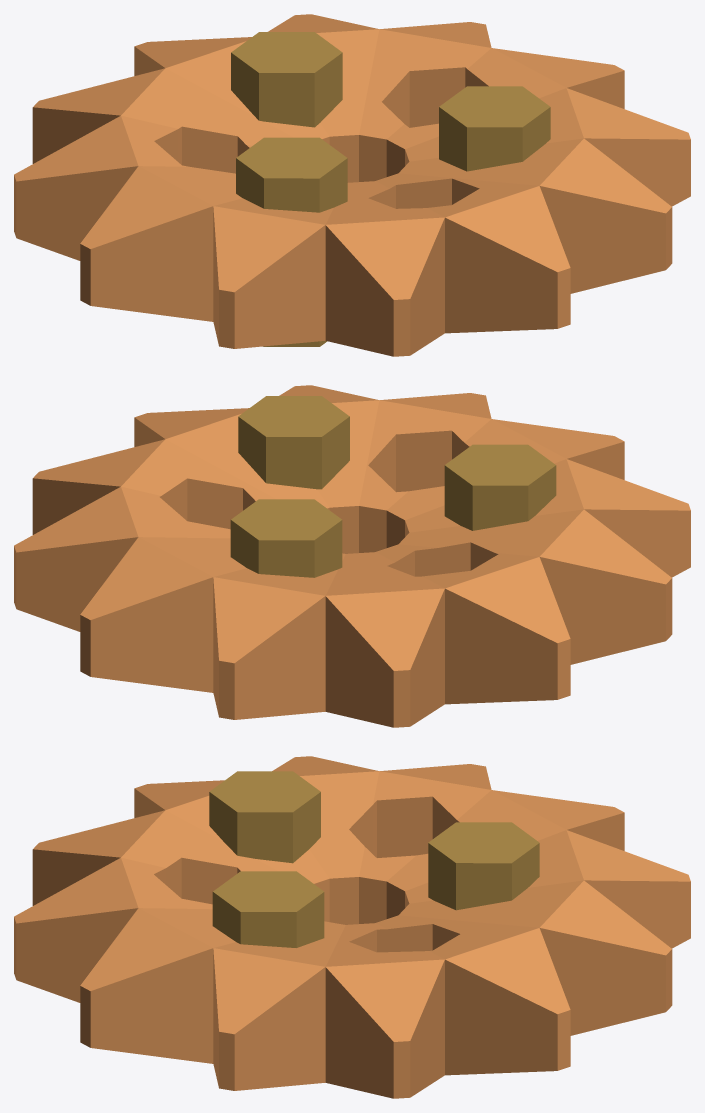
File: ScrapCollectibleHuge.dae
3 views of the same model, one above another, from view 1: azimuth 30°, elevation 25°; view 2: azimuth 150°, elevation 25°; view 3: azimuth 270°, elevation 25° (orthographic).
Visible parts, largest first — view 1: BigGear, GearBolt1, GearBolt2, GearBolt3; view 2: BigGear, GearBolt2, GearBolt3, GearBolt1; view 3: BigGear, GearBolt3, GearBolt1, GearBolt2.
Boxes of the visible parts, x1=… form: BigGear: x1=14, y1=14, x2=690, y2=356; GearBolt1: x1=231, y1=32, x2=342, y2=127; GearBolt2: x1=439, y1=86, x2=550, y2=171; GearBolt3: x1=236, y1=137, x2=347, y2=346; BigGear: x1=14, y1=385, x2=690, y2=727; GearBolt2: x1=238, y1=396, x2=349, y2=489; GearBolt3: x1=444, y1=444, x2=556, y2=530; GearBolt1: x1=230, y1=499, x2=342, y2=577; BigGear: x1=14, y1=756, x2=690, y2=1098; GearBolt3: x1=209, y1=771, x2=320, y2=863; GearBolt1: x1=428, y1=822, x2=539, y2=910; GearBolt2: x1=212, y1=871, x2=324, y2=947.
Size of the model in its own units: 0.7273 by 0.7279 by 0.2.
